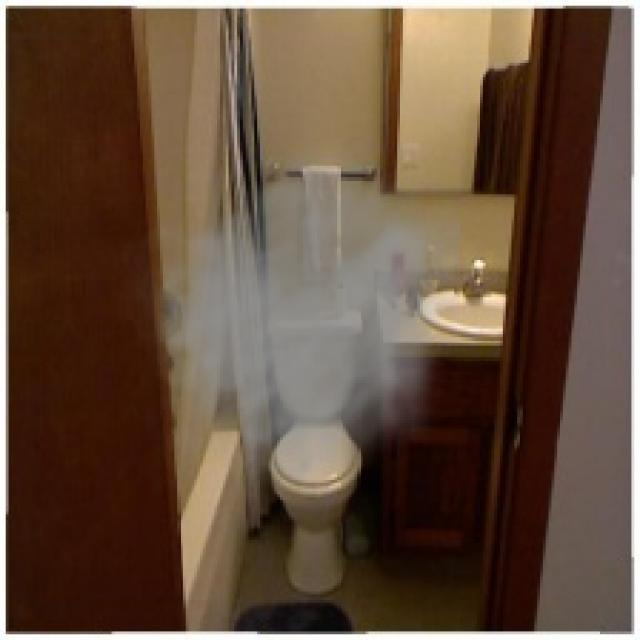Smoke: (117, 131, 460, 506)
